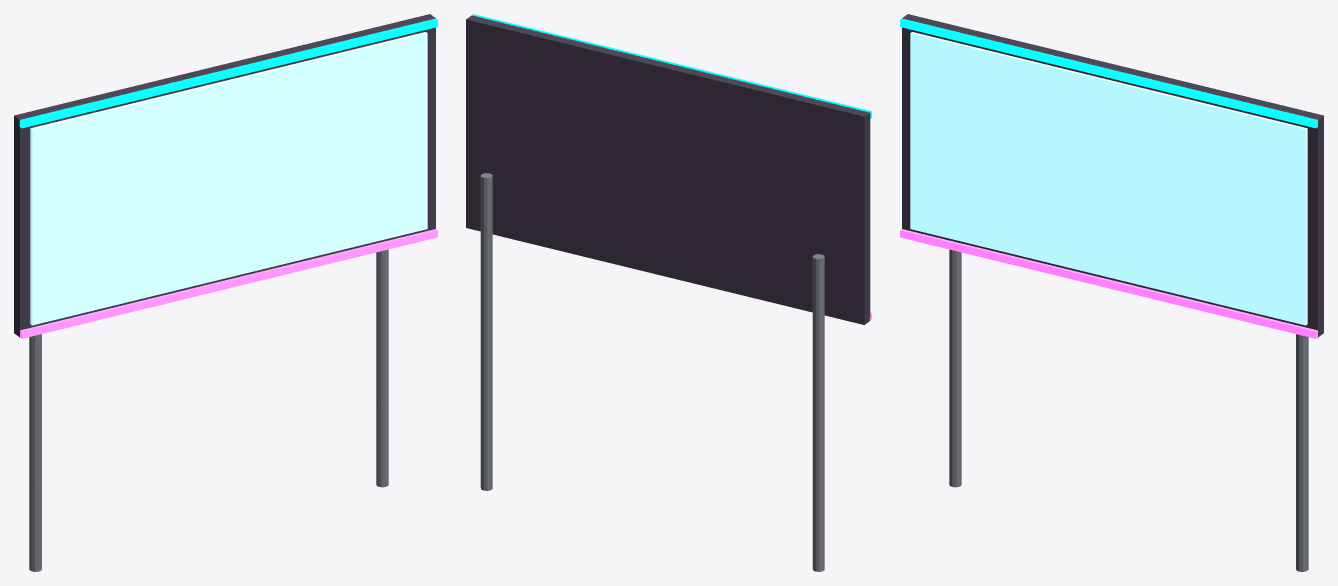
File: SIGN_Billboard_Standard.glb
3 renders of one model, left to right at view 1: azimuth 30°, elevation 25°; view 2: azimuth 150°, elevation 25°; view 3: azimuth 330°, elevation 25°, orthographic. The views are drawn at different scales.
Visible parts, largest first — view 1: SIGN_Billboard_Standard; view 2: SIGN_Billboard_Standard; view 3: SIGN_Billboard_Standard.
Boxes of the visible parts, x1,y1,x2,y2 form: SIGN_Billboard_Standard: (14, 14, 437, 571); SIGN_Billboard_Standard: (466, 14, 871, 571); SIGN_Billboard_Standard: (900, 14, 1323, 571).
Size of the model in its own units: 6 by 6.5 by 0.6001.
